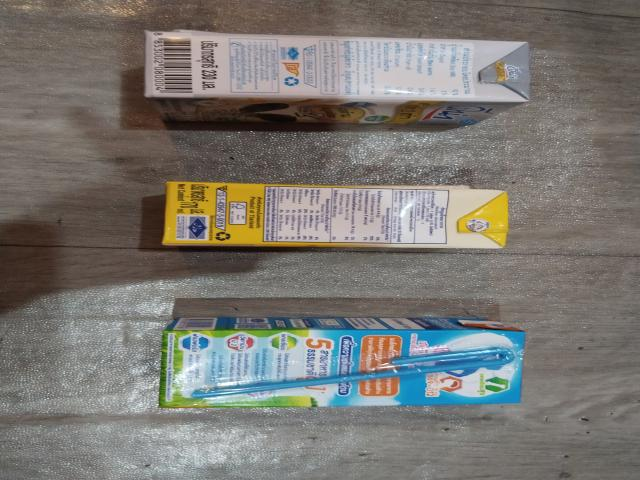drink_box: (132, 25, 544, 128), (157, 314, 534, 410), (149, 173, 537, 254)
